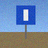sign: (16, 6, 35, 39)
